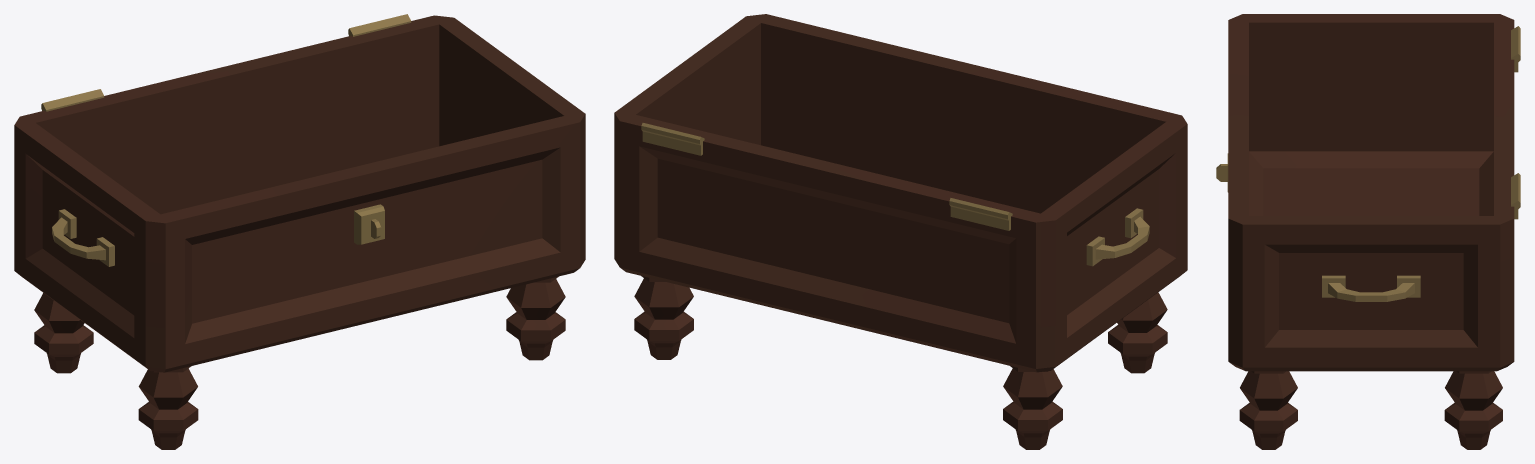
Rendered from kingdom_SM_Prop_Chest_02.gltf.
The picture shows the model from 3 angles, left to right: view 1: azimuth 30°, elevation 25°; view 2: azimuth 150°, elevation 25°; view 3: azimuth 270°, elevation 25°; orthographic projection. The views are drawn at different scales.
Parts seen in each view (by area): view 1: SM_Prop_Chest_02; view 2: SM_Prop_Chest_02; view 3: SM_Prop_Chest_02.
Part boxes in pixels (x1,y1,x2,y2): SM_Prop_Chest_02: (14, 14, 585, 449); SM_Prop_Chest_02: (614, 14, 1187, 449); SM_Prop_Chest_02: (1216, 14, 1520, 449).
Size of the model in its own units: 0.827 by 0.4136 by 0.4677.
Materials: 1 (1 with a texture image).
